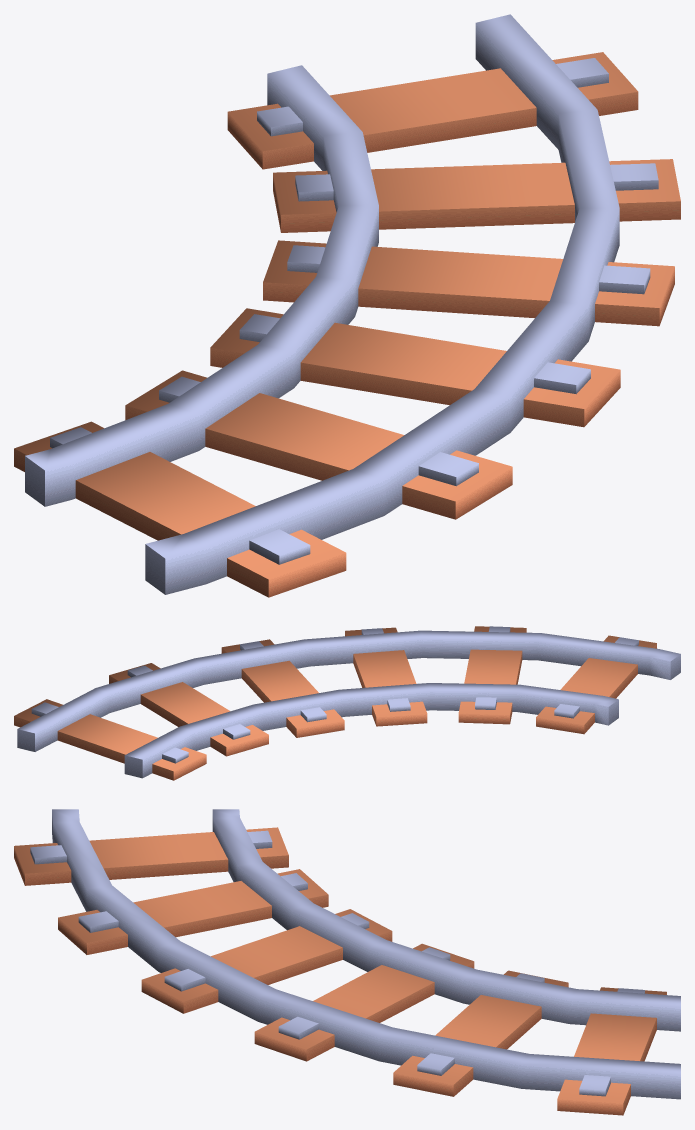
Rendered from railroad-corner-small.glb.
The picture shows the model from 3 angles, top to bottom: view 1: azimuth 30°, elevation 25°; view 2: azimuth 150°, elevation 25°; view 3: azimuth 270°, elevation 25°; orthographic projection. The views are drawn at different scales.
Parts seen in each view (by area): view 1: railroad-corner-small; view 2: railroad-corner-small; view 3: railroad-corner-small.
Boxes of the visible parts, <box> form: railroad-corner-small: <box>14,14,680,597</box>; railroad-corner-small: <box>14,626,680,780</box>; railroad-corner-small: <box>14,809,680,1115</box>.
Bounding box in the file's own units: 2.49 × 0.1 × 2.49.
1 material, 1 textured.
